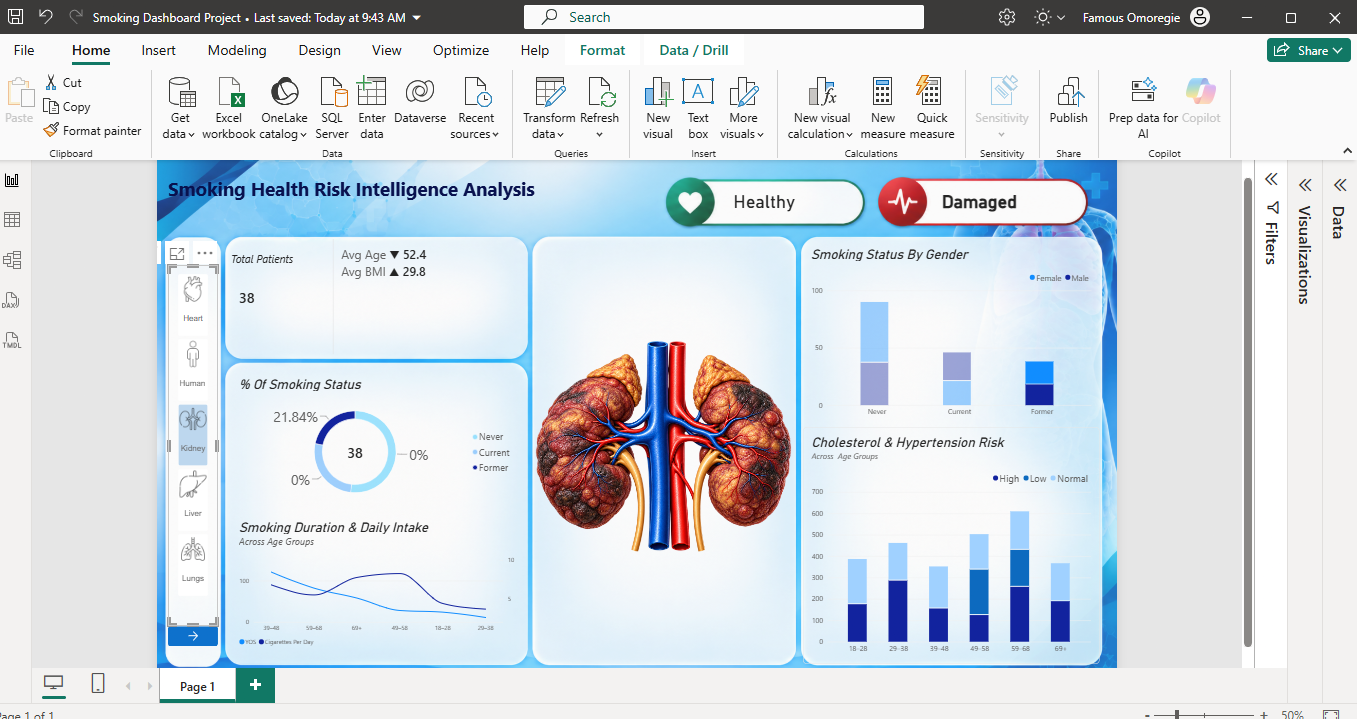

What the dashboard file says about the page in this screenshot:
{"tool":"powerbi","page":{"name":"Page 1","canvas":[1920,1080],"ordinal":0},"visuals":[{"type":"advancedSlicerVisual","fields":{"Values":["condition.Organ_Condition"]},"box":[1003.5,51,852.5,102],"z":0},{"type":"cardVisual","fields":{"Data":["CountNonNull(health_dataset.Patient_ID)"]},"box":[148.8,178.6,582.5,231.7],"z":1000},{"type":"textbox","box":[148.8,202,244.5,27.6],"z":2000},{"type":"actionButton","box":[21.3,952.4,99.9,40.4],"z":3000},{"type":"ChicletSlicer1448559807354","fields":{"Category":["Organs.Organ"],"Image":["Organs.Icon_URL"]},"box":[21.3,229.6,99.9,722.8],"z":4000},{"type":"image","box":[756.9,178.6,514.5,835.5],"z":5000},{"type":"donutChart","title":"% Of Smoking Status","fields":{"Category":["health_dataset.Smoking_Status"],"Y":["CountNonNull(health_dataset.Smoking_Status)"]},"box":[148.8,438,582.5,287],"z":6000},{"type":"lineChart","title":"Smoking Duration & Daily Intake","fields":{"Category":["health_dataset.Age Group"],"Y":["Sum(health_dataset.Years_of_Smoking)"],"Y2":["Avg(health_dataset.Cigarettes_Per_Day)"]},"box":[148.8,725,582.5,289.1],"z":7000},{"type":"ribbonChart","title":"Smoking Status By Gender","fields":{"Category":["health_dataset.Smoking_Status"],"Series":["health_dataset.Gender"],"Y":["CountNonNull(health_dataset.Patient_ID)"]},"box":[1292.6,178.6,593.1,376.3],"z":7001},{"type":"columnChart","title":"Cholesterol & Hypertension Risk","fields":{"Category":["health_dataset.Age Group"],"Series":["health_dataset.BP_Risk"],"Y":["Avg(health_dataset.Cholesterol_Level)"]},"box":[1292.6,554.9,593.1,474.1],"z":7002},{"type":"textbox","box":[21.3,51,778.1,102],"z":7003}]}

Visuals, with their boxes on the page's 1920x1080 design canvas (x1, y1, x2, y2). These are canvas units, not pixel positions in the 1357x719 screenshot, which may show the page scaled, cropped or inside an application window:
advancedSlicerVisual - condition.Organ_Condition: rect(1004, 51, 1856, 153)
cardVisual - CountNonNull(health_dataset.Patient_ID): rect(149, 179, 731, 410)
textbox: rect(149, 202, 393, 230)
actionButton: rect(21, 952, 121, 993)
ChicletSlicer1448559807354 - Organs.Organ x Organs.Icon_URL: rect(21, 230, 121, 952)
image: rect(757, 179, 1271, 1014)
"% Of Smoking Status" donutChart: rect(149, 438, 731, 725)
"Smoking Duration & Daily Intake" lineChart: rect(149, 725, 731, 1014)
"Smoking Status By Gender" ribbonChart: rect(1293, 179, 1886, 555)
"Cholesterol & Hypertension Risk" columnChart: rect(1293, 555, 1886, 1029)
textbox: rect(21, 51, 799, 153)
